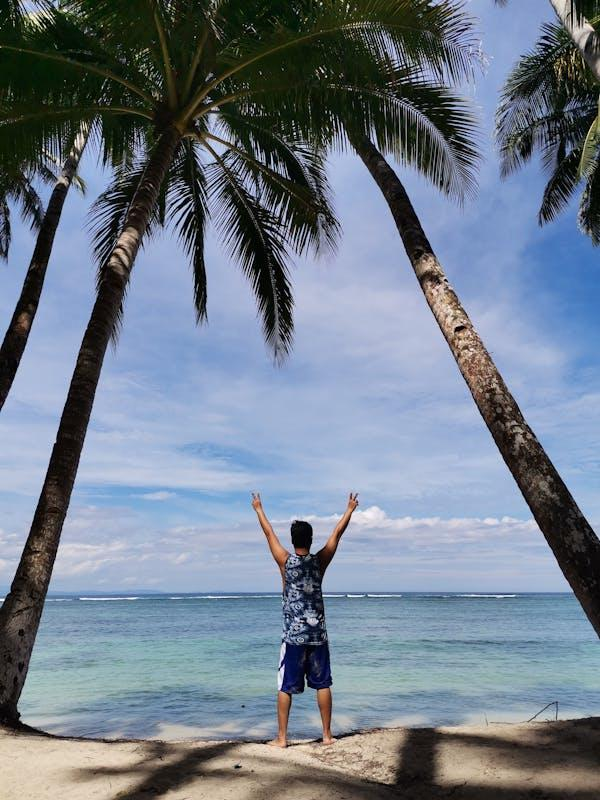Human: (226, 483, 374, 764)
